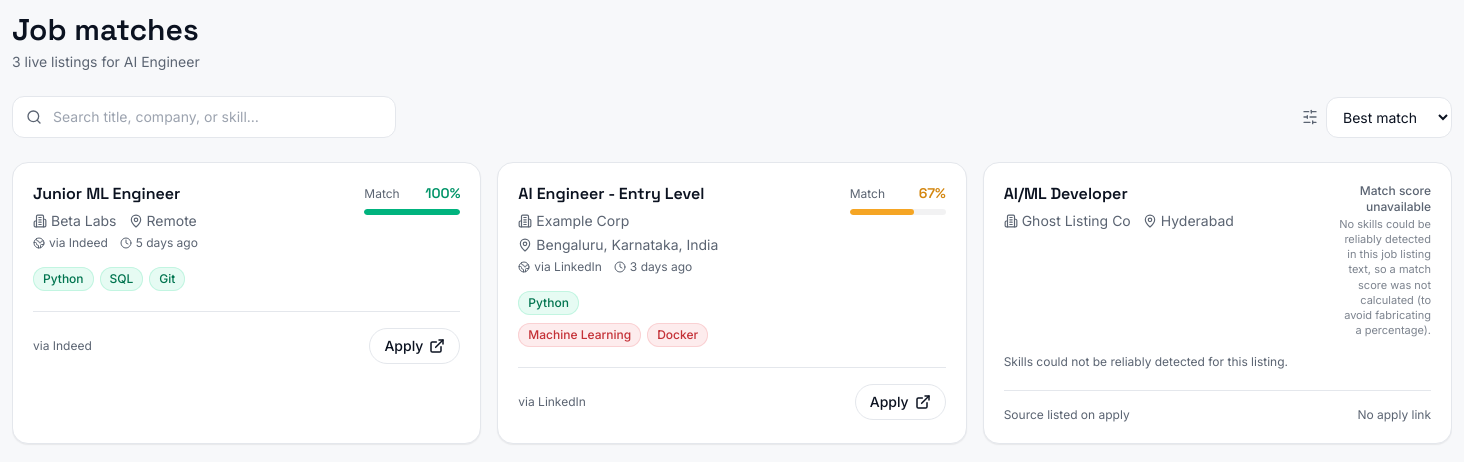
Test case: Jobs page with real data shape › filters jobs by search query
Type "Beta Labs" into the field with placeholder "Search title, company, or skill…" at point(204, 117), box [12,96,396,138]
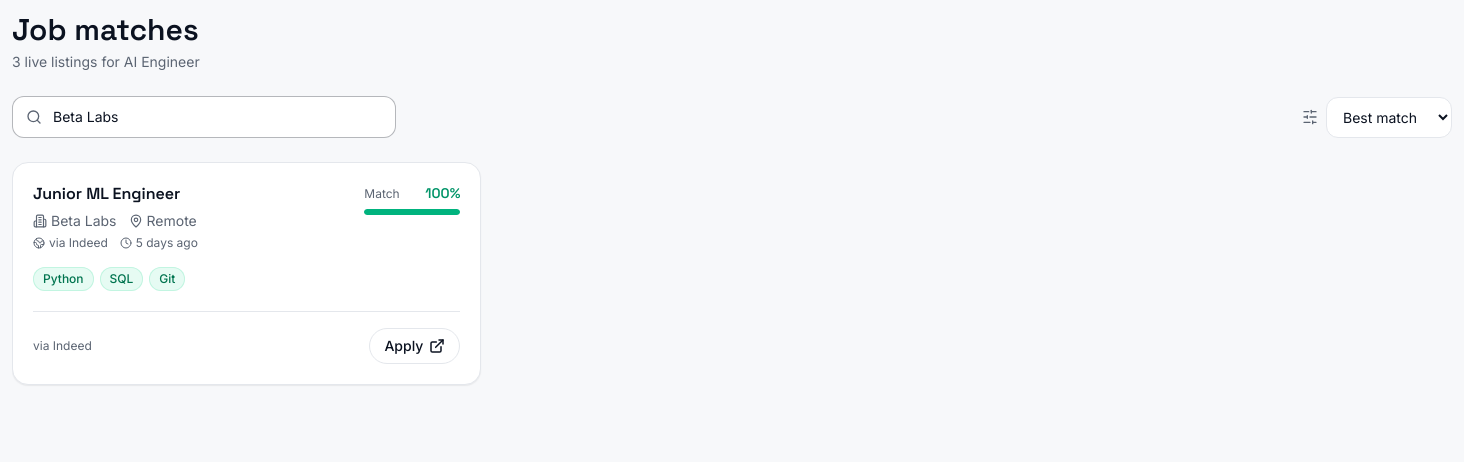
Expected: the heading "Junior ML Engineer" is shown, [33,183,198,205]
Expected: the heading "AI Engineer - Entry Level" is gone
